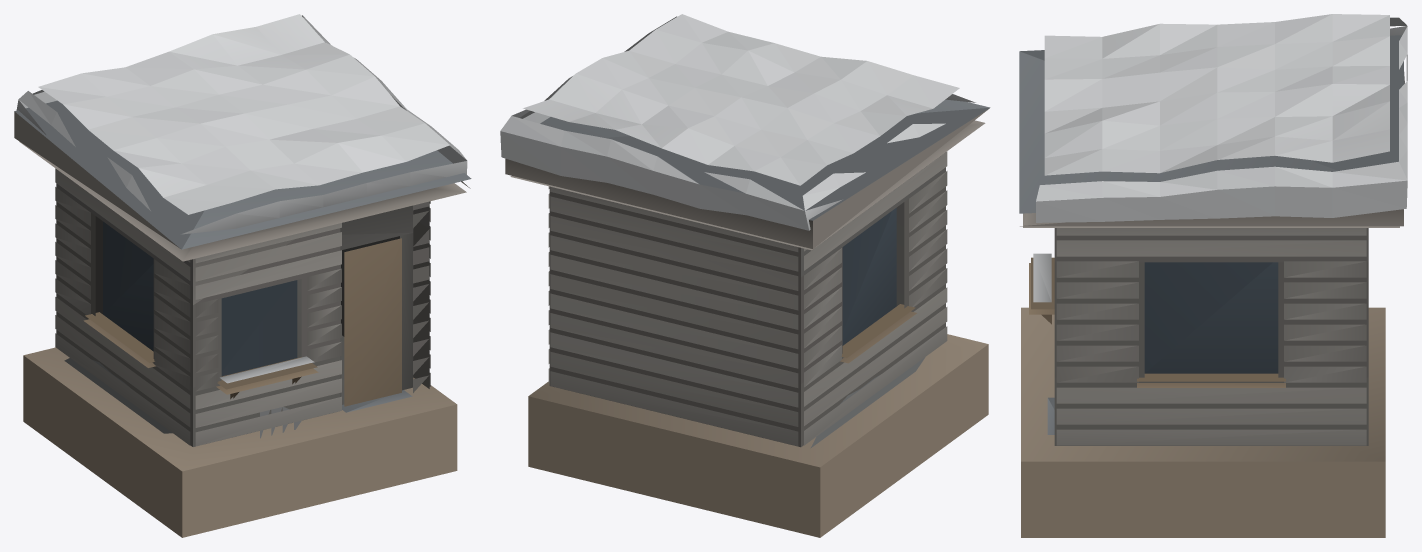
Rendered from patrol.lod.glb.
The picture shows the model from 3 angles, left to right: view 1: azimuth 30°, elevation 25°; view 2: azimuth 150°, elevation 25°; view 3: azimuth 270°, elevation 25°; orthographic projection. The views are drawn at different scales.
Visible parts, largest first — view 1: patrol; view 2: patrol; view 3: patrol.
Part boxes in pixels (x1,y1,x2,y2): patrol: (14, 14, 471, 537); patrol: (500, 14, 990, 537); patrol: (1019, 14, 1407, 537).
Bounding box in the file's own units: 4.75 × 5.26 × 4.75.
